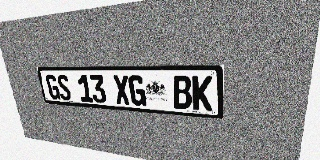1: (76, 75, 93, 102)
3: (89, 75, 107, 103)
B: (172, 76, 192, 110)
G: (128, 75, 146, 106), (45, 74, 61, 100)
K: (192, 76, 213, 111)
S: (56, 75, 72, 101)
X: (113, 75, 131, 105)
